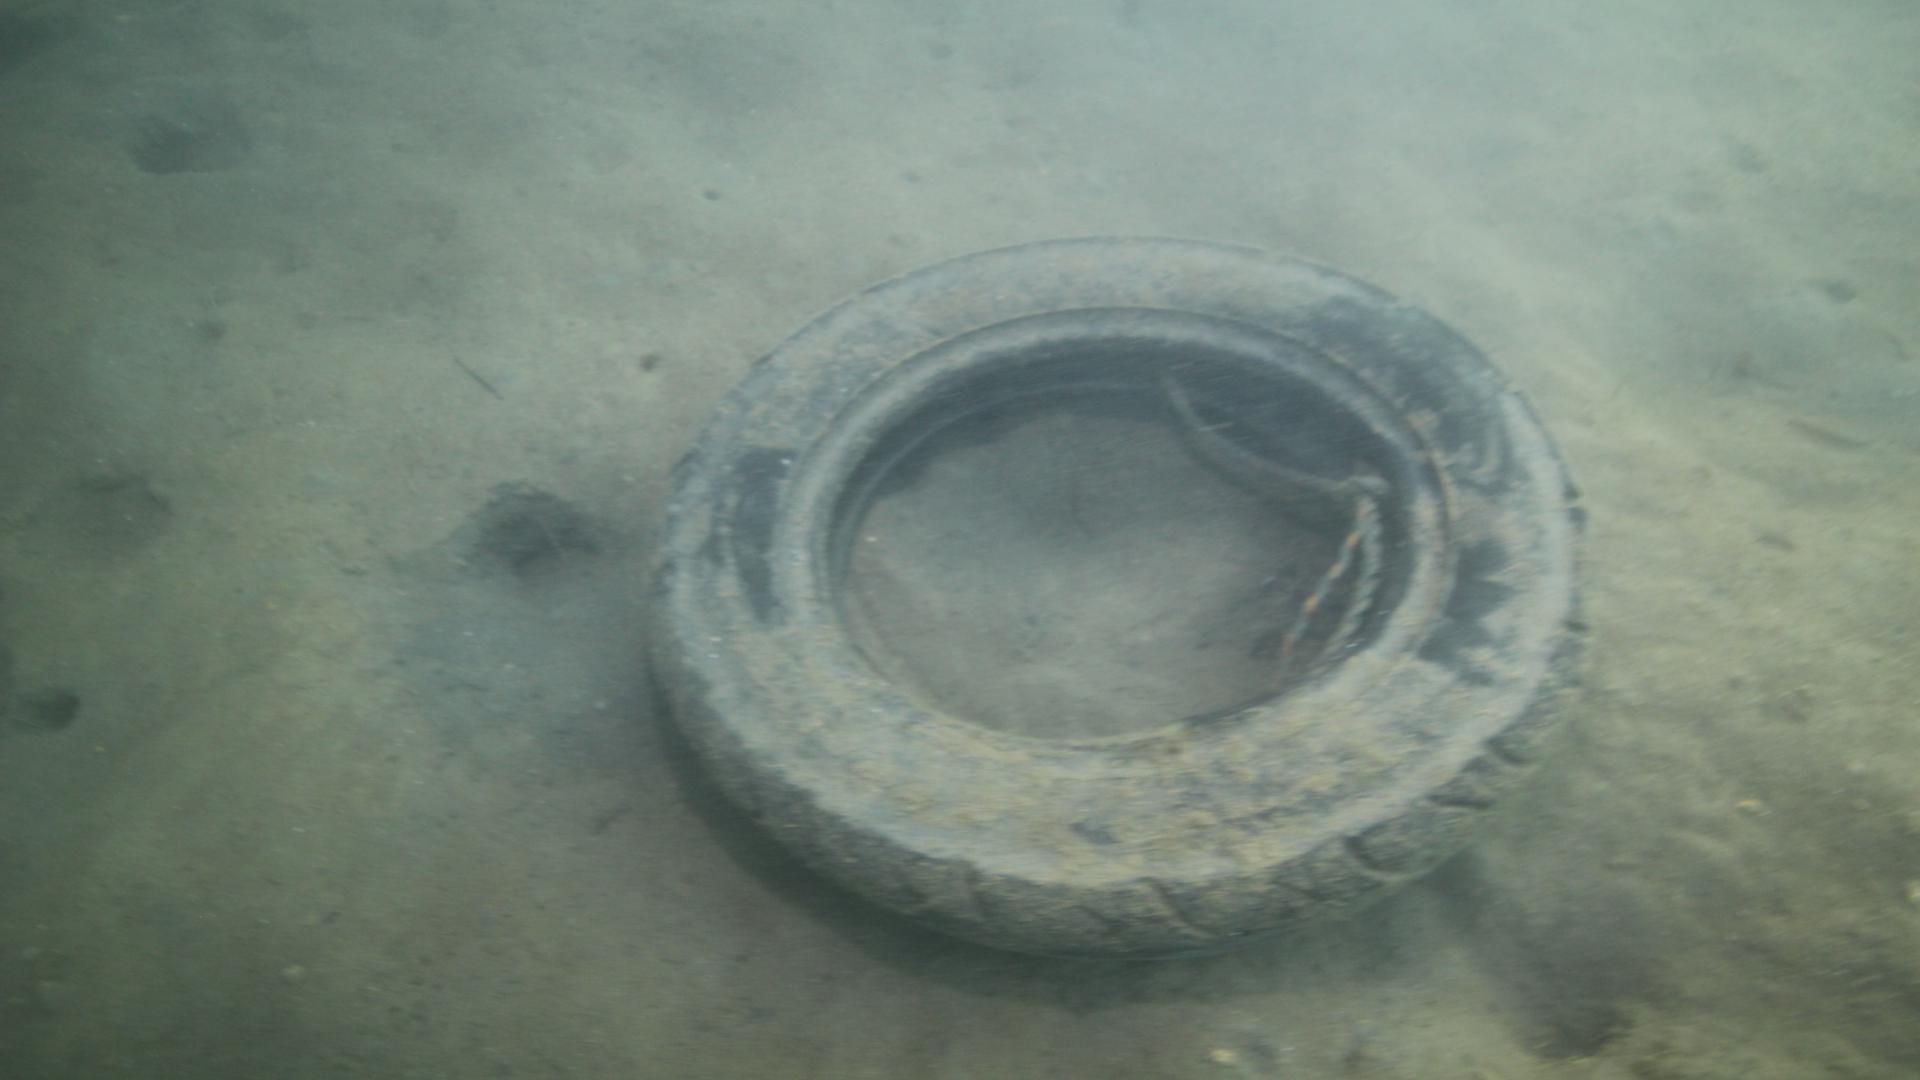rope: (1153, 367, 1395, 684)
tire: (640, 232, 1588, 971)
